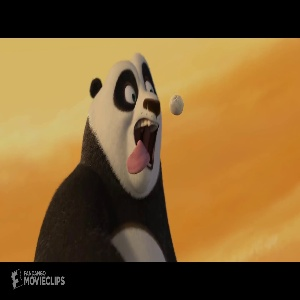po: (28, 45, 179, 262)
